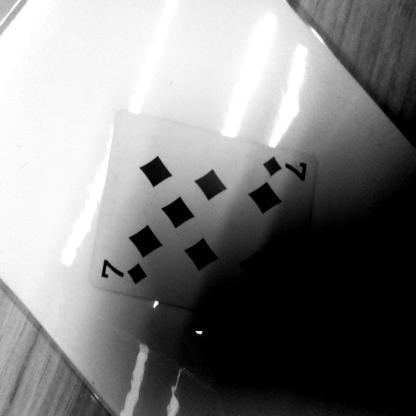7D: (98, 254, 154, 294), (256, 158, 322, 189)
